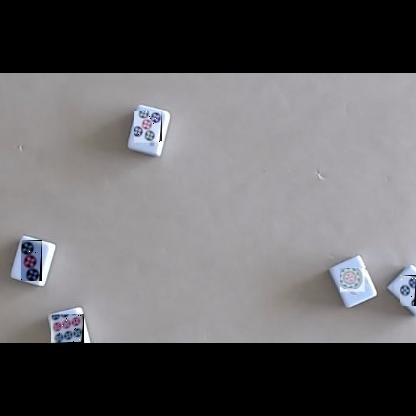1p: (341, 269, 368, 295)
3p: (21, 240, 42, 281)
4p: (400, 275, 416, 306)
5p: (134, 112, 162, 146)
9p: (51, 314, 84, 343)
